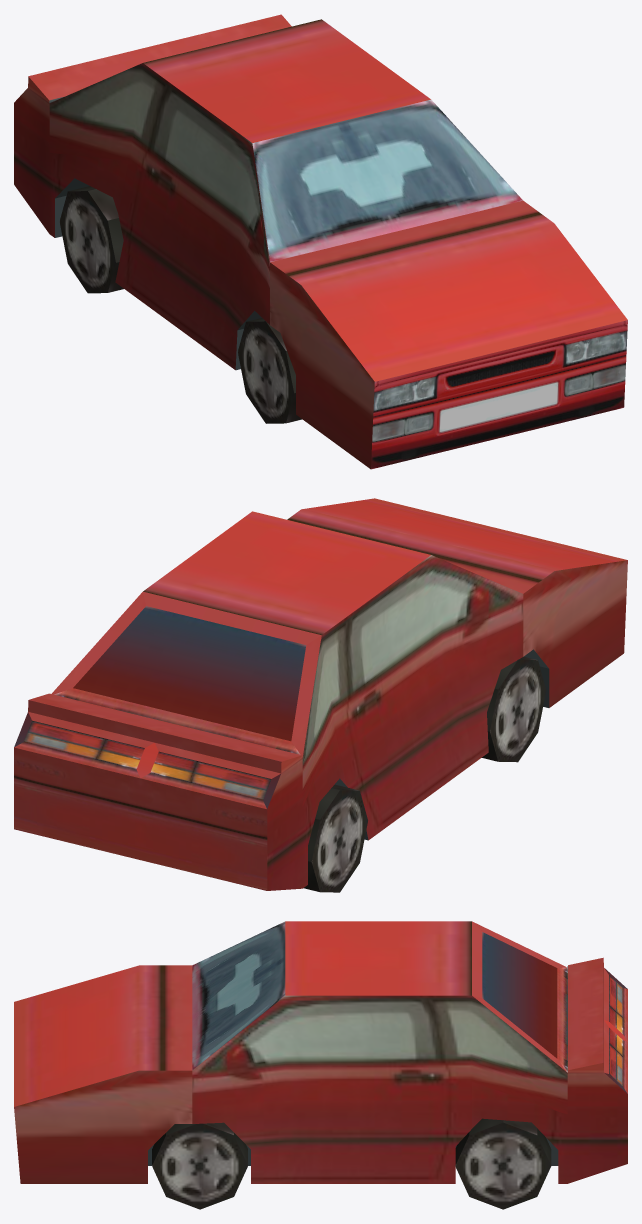
File: car1.glb
The picture shows the model from 3 angles, top to bottom: view 1: azimuth 30°, elevation 25°; view 2: azimuth 150°, elevation 25°; view 3: azimuth 270°, elevation 25°; orthographic projection. The views are drawn at different scales.
Parts seen in each view (by area): view 1: Cube.001, Cylinder.002, Cylinder.003; view 2: Cube.001, Cylinder.002, Cylinder.003; view 3: Cube.001, Cylinder.001, Cylinder.
Boxes of the visible parts, x1,y1,x2,y2 form: Cube.001: (14, 14, 627, 469); Cylinder.002: (59, 186, 123, 293); Cylinder.003: (237, 318, 302, 423); Cube.001: (14, 498, 627, 890); Cylinder.002: (303, 784, 367, 892); Cylinder.003: (482, 656, 546, 762); Cube.001: (14, 921, 627, 1183); Cylinder.001: (455, 1118, 551, 1209); Cylinder: (152, 1122, 247, 1209).
Size of the model in its own units: 1.69 by 1.49 by 4.16.
5 materials, 5 textured.
